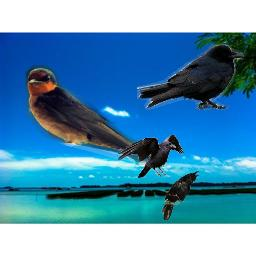Crow: (137, 44, 244, 110), (117, 134, 184, 178), (161, 170, 200, 220)
Swallow: (25, 65, 165, 165)
